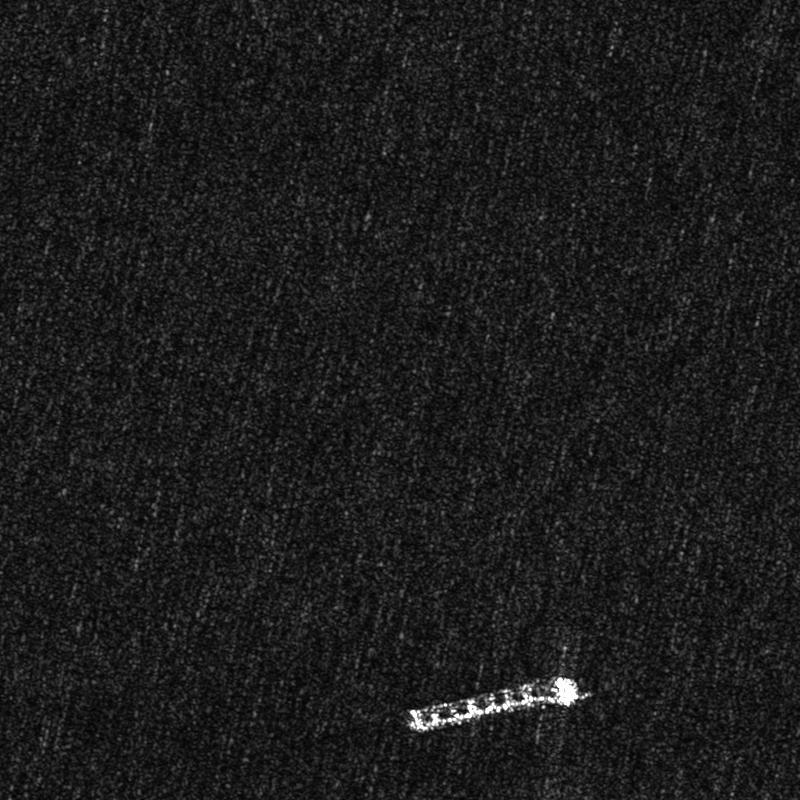ship: (407, 677, 578, 731)
